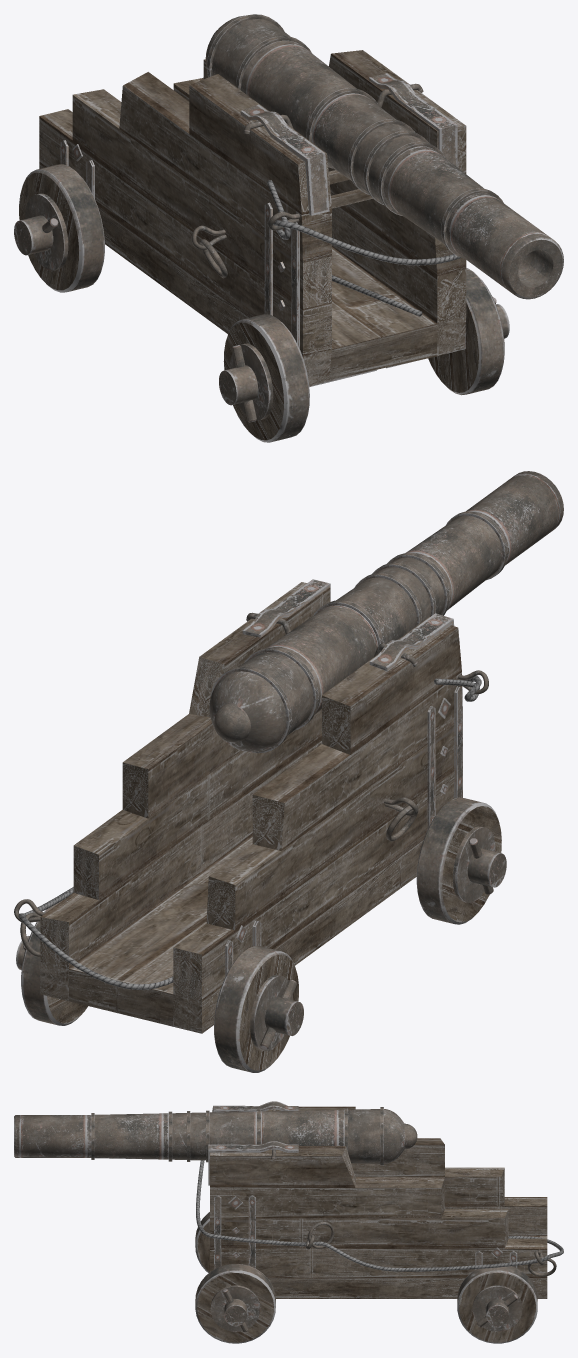
File: SM_Cannon01.FBX
3 views of the same model, one above another, from view 1: azimuth 30°, elevation 25°; view 2: azimuth 150°, elevation 25°; view 3: azimuth 270°, elevation 25° (orthographic). The views are drawn at different scales.
Parts seen in each view (by area): view 1: SM_Cannon01; view 2: SM_Cannon01; view 3: SM_Cannon01.
Part boxes in pixels (x1,y1,x2,y2): SM_Cannon01: (14,14,563,442); SM_Cannon01: (14,471,563,1072); SM_Cannon01: (14,1101,563,1343).
Size of the model in its own units: 139 by 380 by 152.
